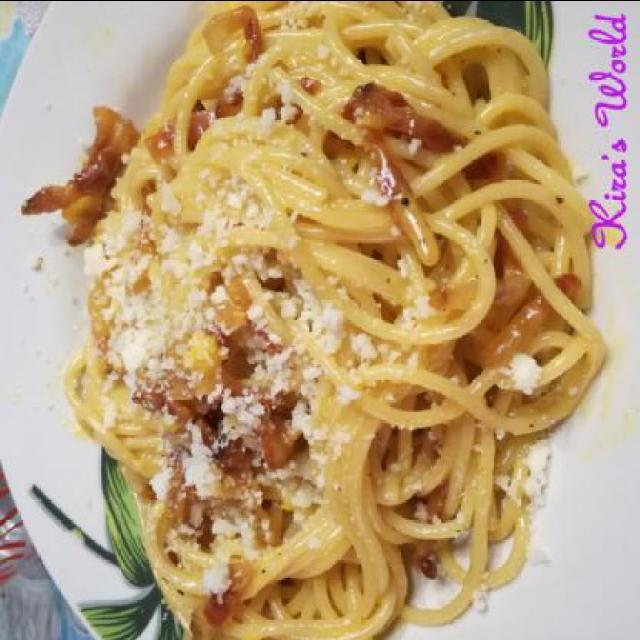Pasta with carbonara sauce: (63, 8, 583, 614)
